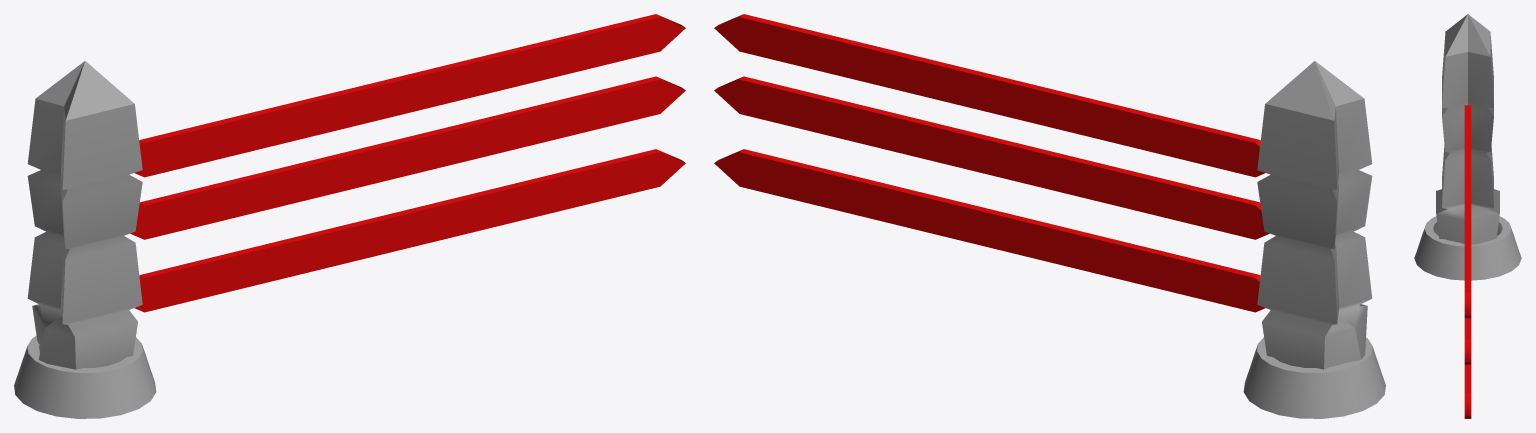
Rendered from fence.fbx.
3 renders of one model, left to right at view 1: azimuth 30°, elevation 25°; view 2: azimuth 150°, elevation 25°; view 3: azimuth 270°, elevation 25°, orthographic. The views are drawn at different scales.
Visible parts, largest first — view 1: polySurface2; view 2: polySurface2; view 3: polySurface2.
Boxes of the visible parts, bbox=[...] form: polySurface2: bbox=[14, 14, 685, 418]; polySurface2: bbox=[714, 14, 1385, 418]; polySurface2: bbox=[1414, 14, 1521, 418].
Bounding box in the file's own units: 420 × 200 × 79.47.
